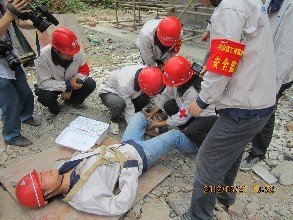fall: (17, 101, 206, 218)
